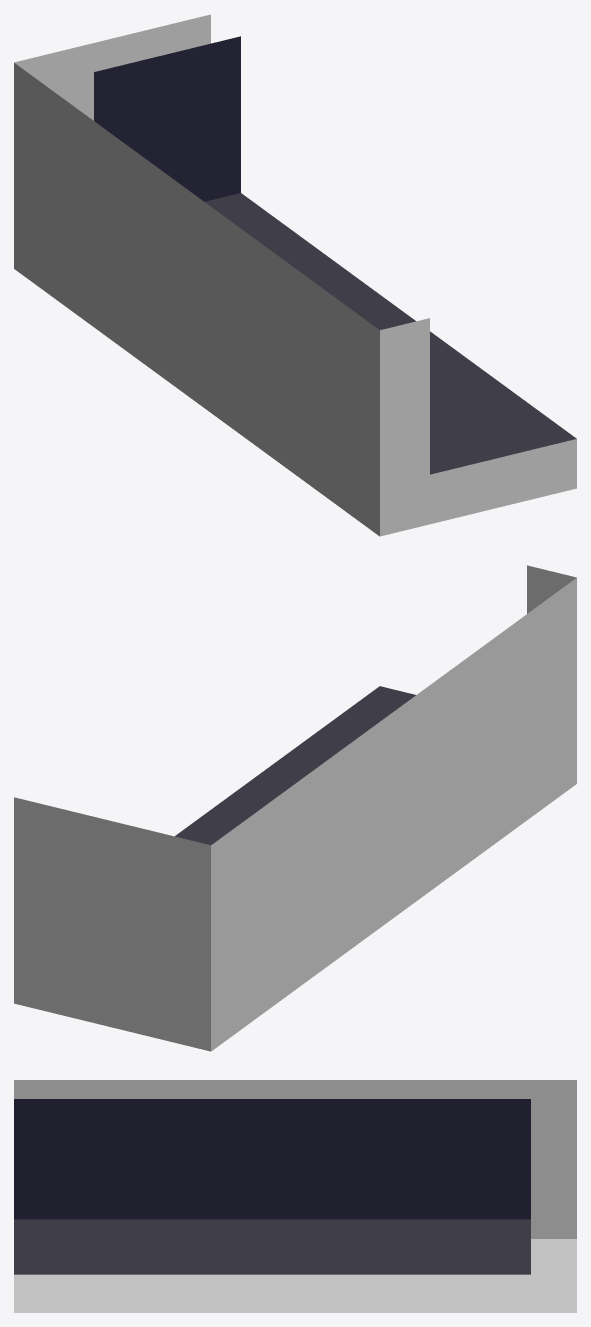
The model's file is 1U Floor Corner.fbx.
3 renders of one model, top to bottom at view 1: azimuth 30°, elevation 25°; view 2: azimuth 150°, elevation 25°; view 3: azimuth 270°, elevation 25°, orthographic. The views are drawn at different scales.
Visible parts, largest first — view 1: 1U Floor Corner; view 2: 1U Floor Corner; view 3: 1U Floor Corner.
Part boxes in pixels (x1,y1,x2,y2): 1U Floor Corner: (14, 14, 576, 536); 1U Floor Corner: (14, 565, 576, 1051); 1U Floor Corner: (14, 1080, 576, 1312).
Bounding box in the file's own units: 249 × 249 × 799.
